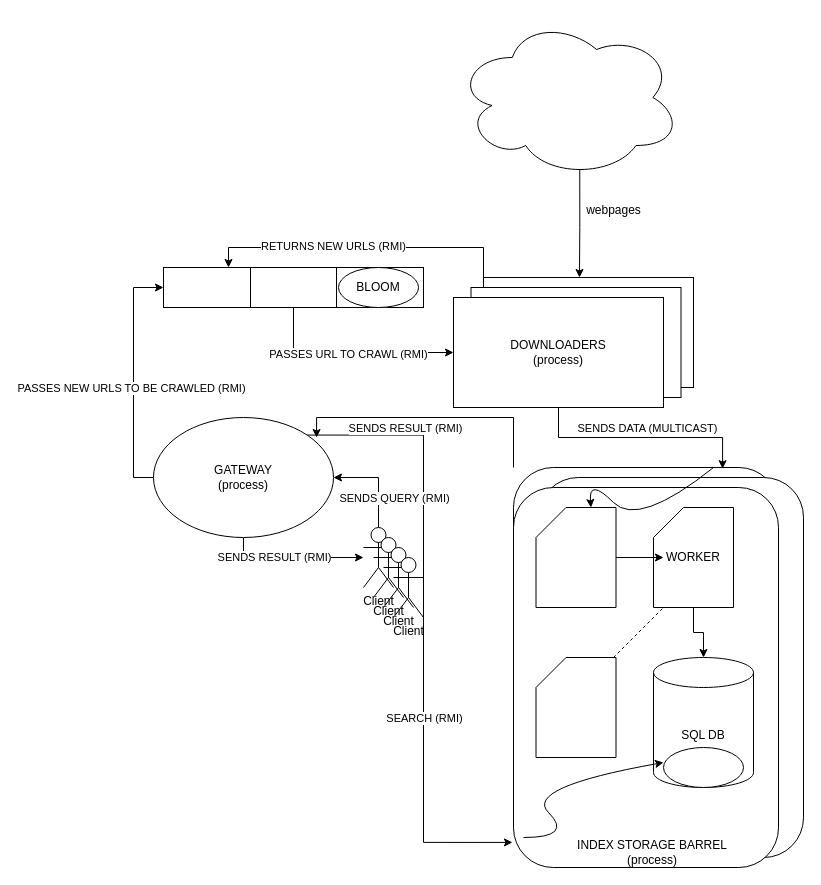
Some shapes in this 821 by 885 pixel diagram are drawn without their labels. Here are the shapes that lost their labels. From the top down, the box of each, then its label:
(455, 16, 681, 178): WEB
(162, 266, 424, 308): URL QUEUE (process)
(535, 506, 616, 608): LISTENER
(535, 656, 616, 758): SENDER
(662, 746, 744, 788): TF-IDF
